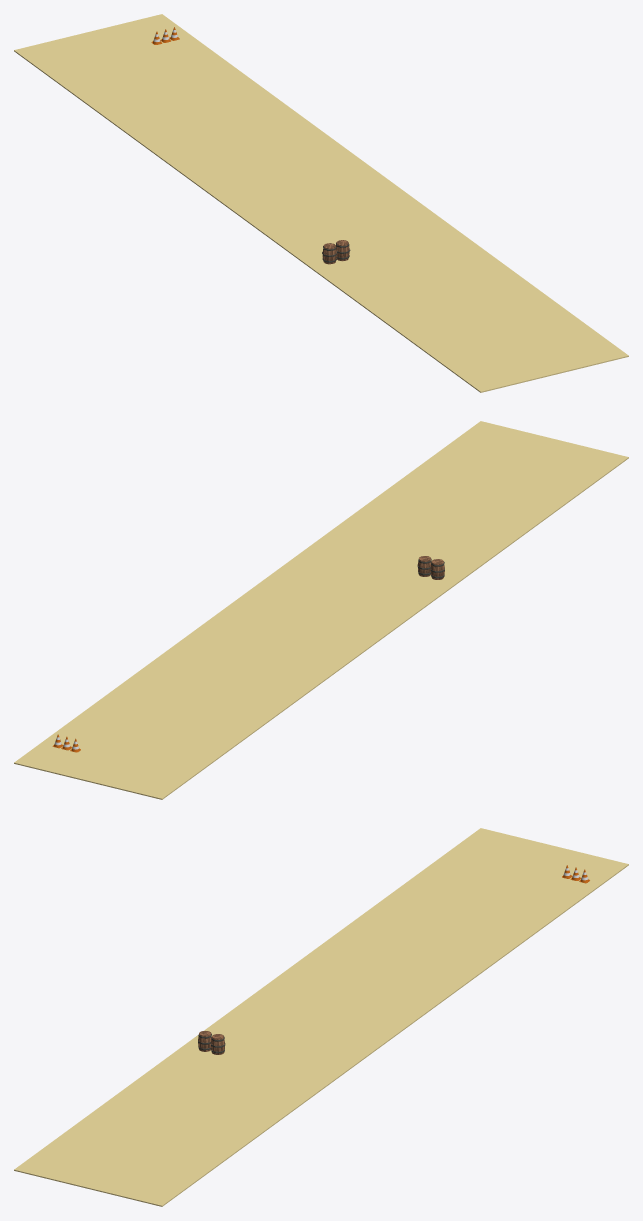
Rendered from tile 2.fbx.
3 renders of one model, top to bottom at view 1: azimuth 30°, elevation 25°; view 2: azimuth 150°, elevation 25°; view 3: azimuth 330°, elevation 25°, orthographic.
Parts seen in each view (by area): view 1: Cube; view 2: Cube; view 3: Cube.
Boxes of the visible parts, x1,y1,x2,y2 form: Cube: (14,14,628,392); Cube: (14,421,628,799); Cube: (14,828,628,1206).
Bounding box in the file's own units: 200 × 22.11 × 1091.
